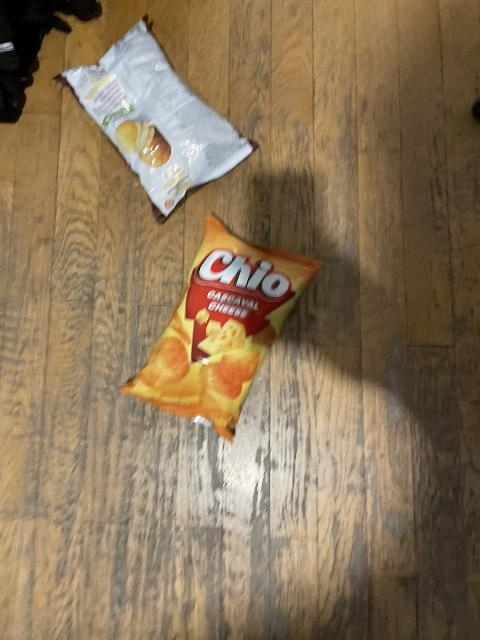Chio Cascaval 125g: (119, 216, 329, 442)
Lays Beef Grilled Ribs 125g: (59, 19, 260, 221)
